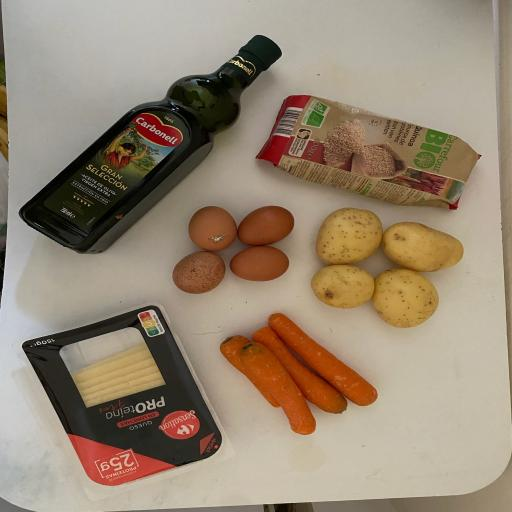carrot: (263, 309, 384, 409), (250, 323, 350, 416), (238, 338, 319, 440), (218, 333, 282, 413)
cheese: (19, 303, 225, 488)
egg: (168, 248, 228, 298), (230, 204, 298, 248), (185, 202, 236, 255), (222, 244, 293, 282)
olive_oil: (14, 31, 285, 259)
potato: (368, 265, 445, 329), (379, 220, 469, 273), (313, 205, 385, 268), (309, 260, 377, 310)
quinoa: (256, 91, 486, 214)
